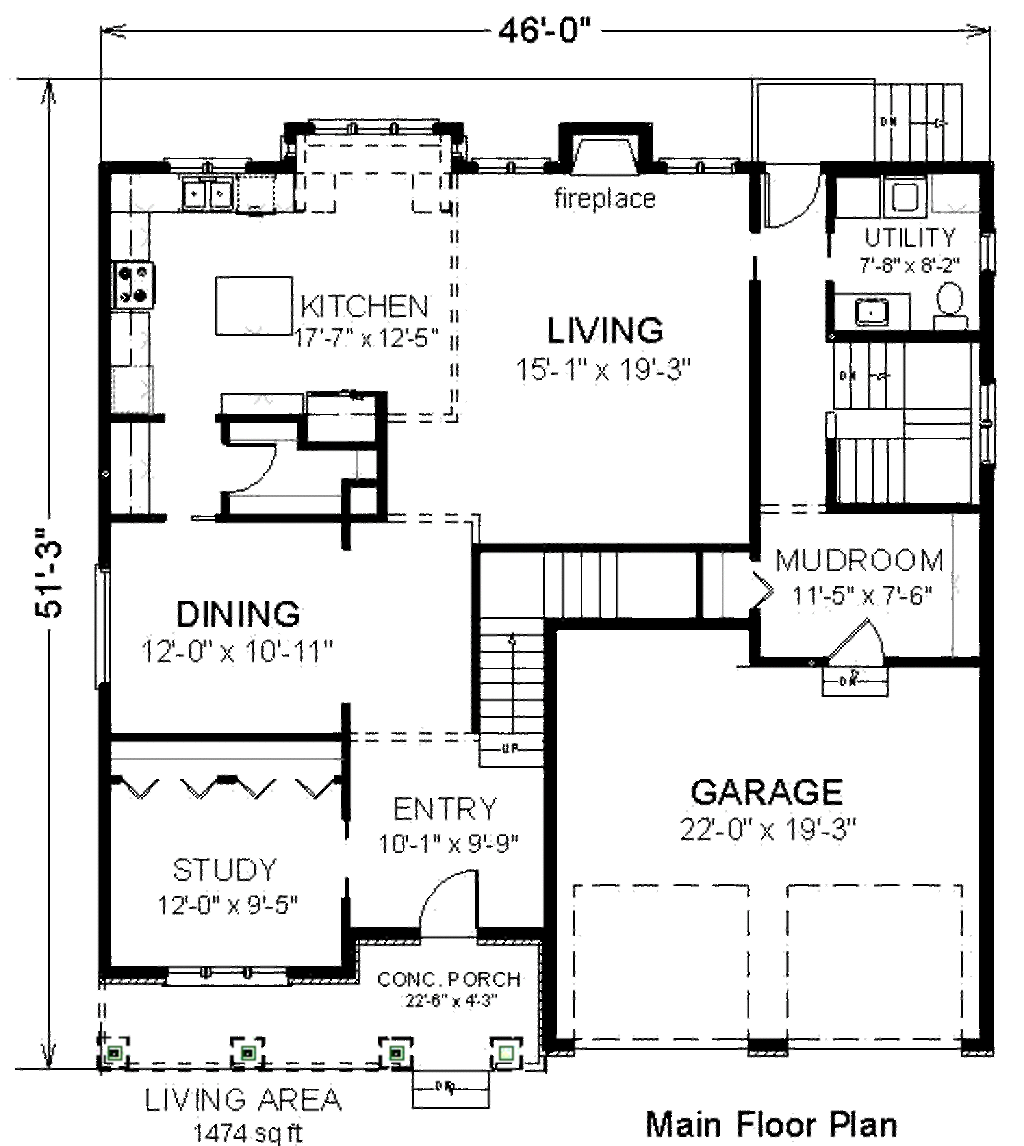door: (419, 871, 481, 932), (772, 167, 826, 227), (226, 443, 272, 487)
kitchen_bar: (221, 274, 296, 334)
large_sink: (930, 278, 981, 325)
stairs: (468, 546, 621, 773), (833, 348, 986, 501), (872, 81, 956, 155)
twin_sink: (175, 178, 244, 211)
window: (89, 562, 116, 685)
